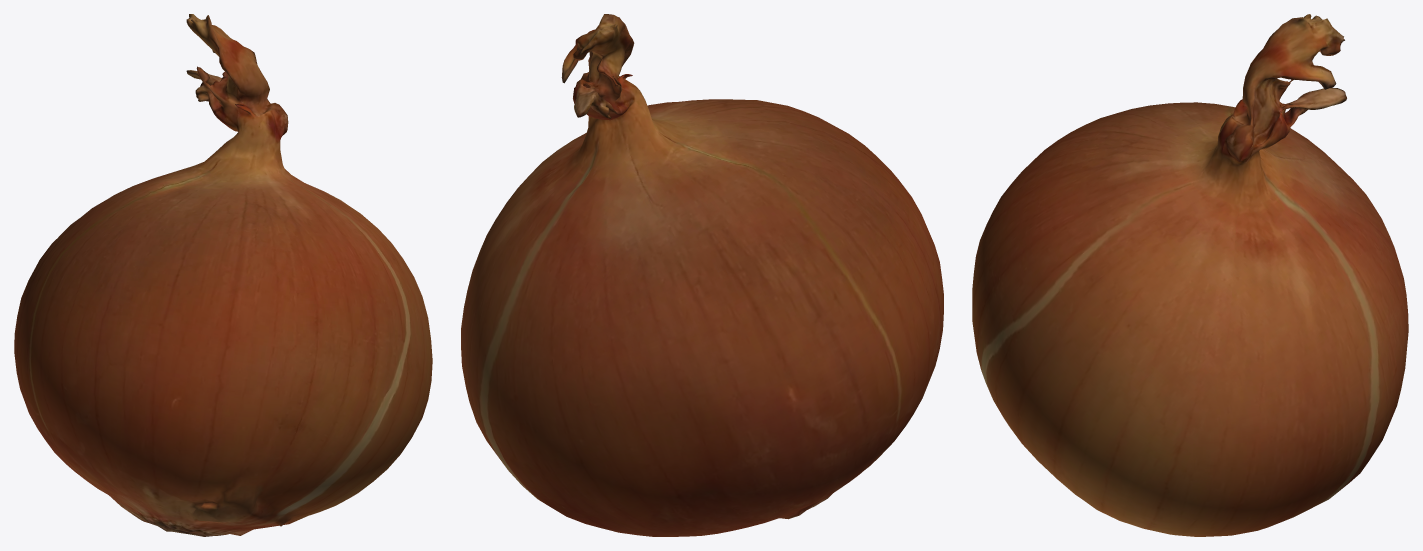
File: onion.glb
3 renders of one model, left to right at view 1: azimuth 30°, elevation 25°; view 2: azimuth 150°, elevation 25°; view 3: azimuth 270°, elevation 25°, orthographic. The views are drawn at different scales.
Parts seen in each view (by area): view 1: yellow_onion; view 2: yellow_onion; view 3: yellow_onion.
Part boxes in pixels (box(x1,y1,x2,y2)): yellow_onion: box(14, 14, 432, 536); yellow_onion: box(461, 14, 943, 536); yellow_onion: box(972, 14, 1408, 536).
Size of the model in its own units: 0.0725 by 0.0864 by 0.0686.
Materials: 1 (1 with a texture image).
